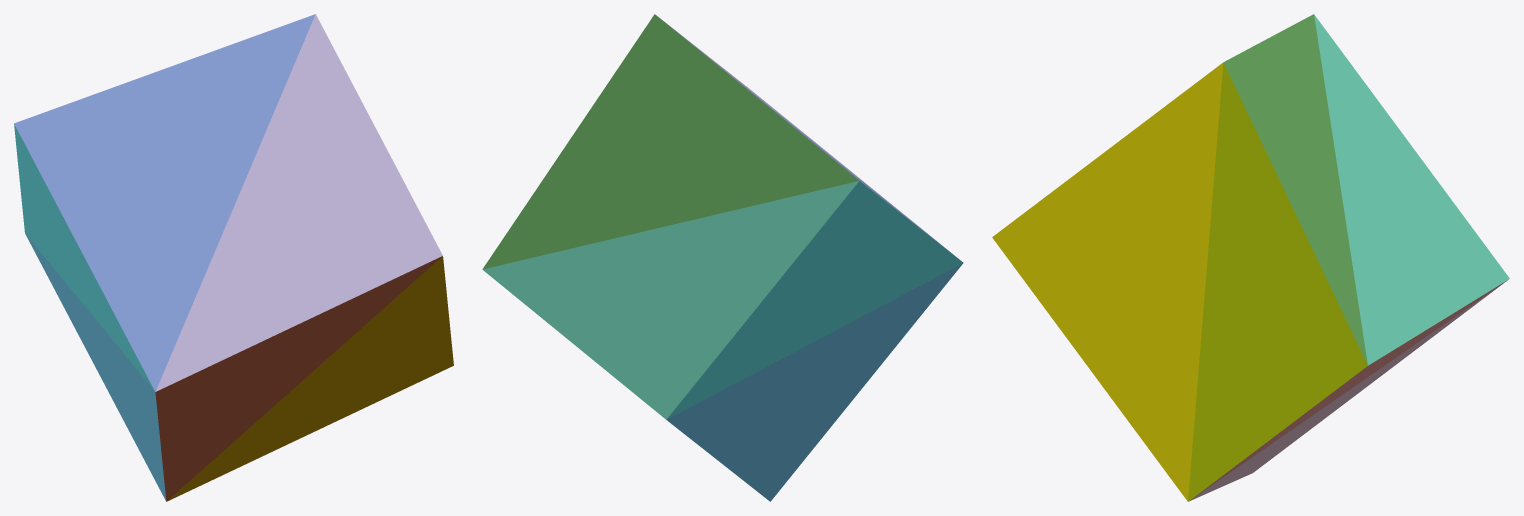
The model's file is cube_dented_rotated.gltf.
3 views of the same model, side by side, from view 1: azimuth 30°, elevation 25°; view 2: azimuth 150°, elevation 25°; view 3: azimuth 270°, elevation 25° (orthographic). The views are drawn at different scales.
Visible parts, largest first — view 1: Cube.002; view 2: Cube.002; view 3: Cube.002.
Part boxes in pixels (x1,y1,x2,y2): Cube.002: (14,14,453,501); Cube.002: (482,14,963,501); Cube.002: (992,14,1509,501).
Bounding box in the file's own units: 1.36 × 1.6 × 1.57.
